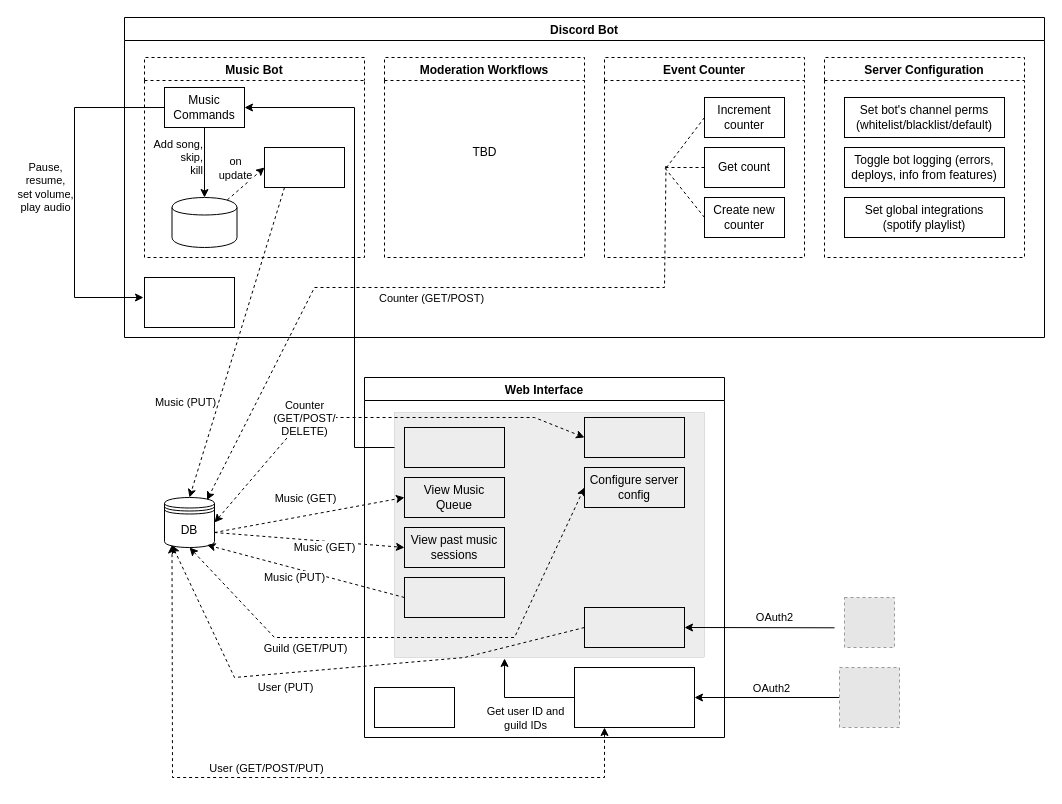
The diagram is 1062 pixels wide and 804 high, and some of its shapes have lost their labels. Grey dashed boxes stand in for pictures. Each missing label, with the centre of its shape:
"Configure/view Counters" goes at (x=634, y=437).
"Create playlist from music session" goes at (x=454, y=597).
"Execute music commands" goes at (x=454, y=447).
"In-memory queue" goes at (x=204, y=222).
"Link Spotify account" goes at (x=634, y=627).
"List commands <<static>>" goes at (x=414, y=707).
"Login with Discord SSO" goes at (x=634, y=697).
"Sync to DB" goes at (x=304, y=167).
"VC Dispatcher" goes at (x=189, y=302).
